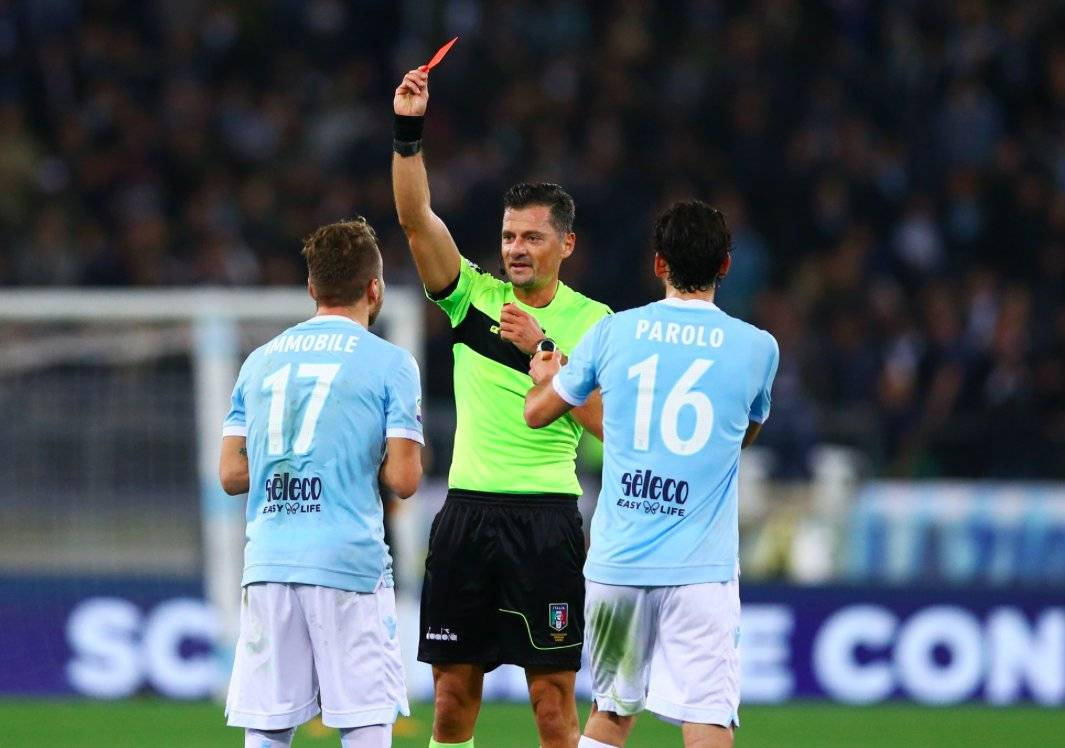red_card: (382, 23, 469, 127)
